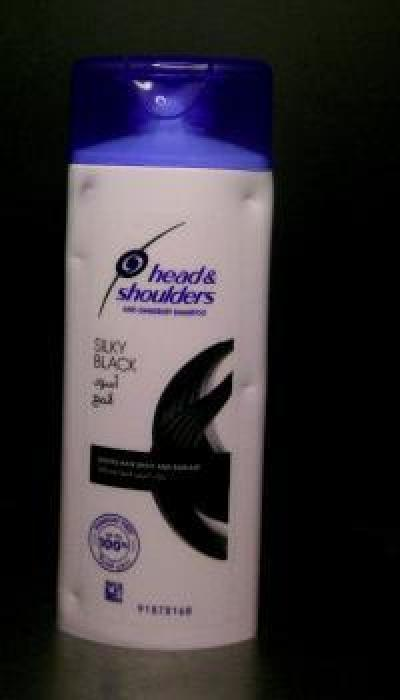dent_unacc: (66, 170, 120, 216), (64, 230, 102, 274), (62, 584, 98, 630), (229, 184, 267, 220)
